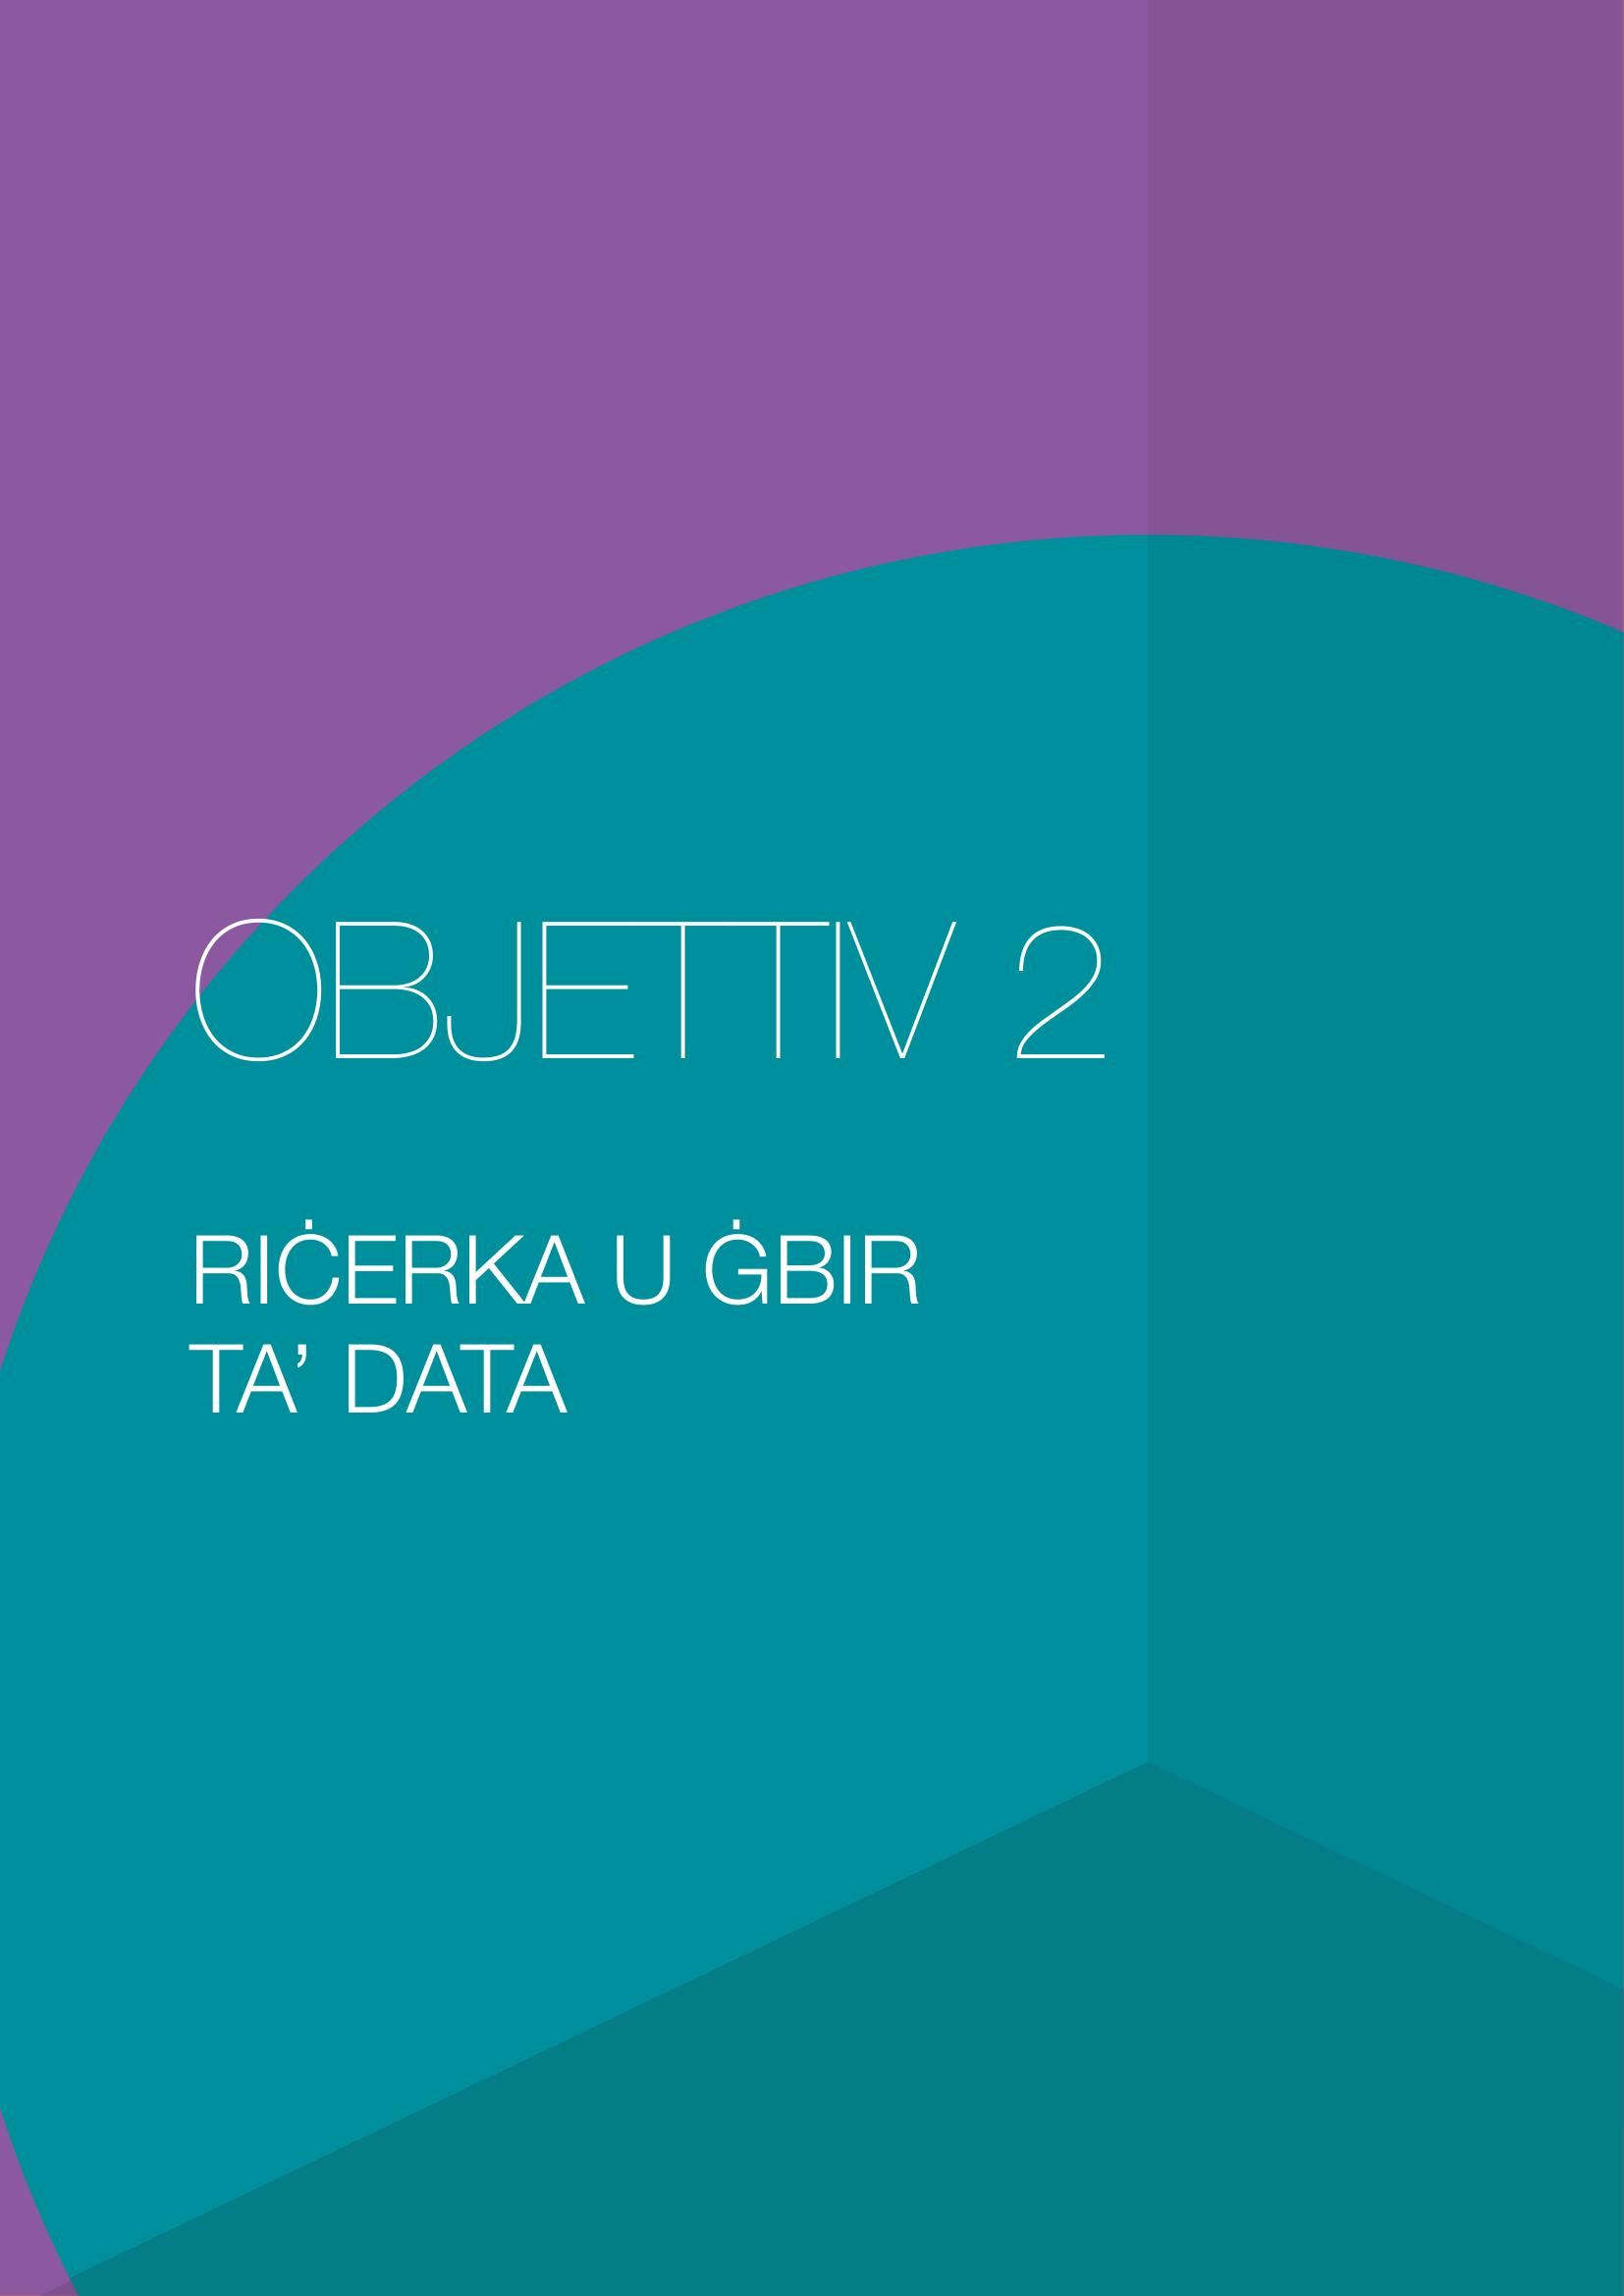text: (165, 889, 1130, 1428)
